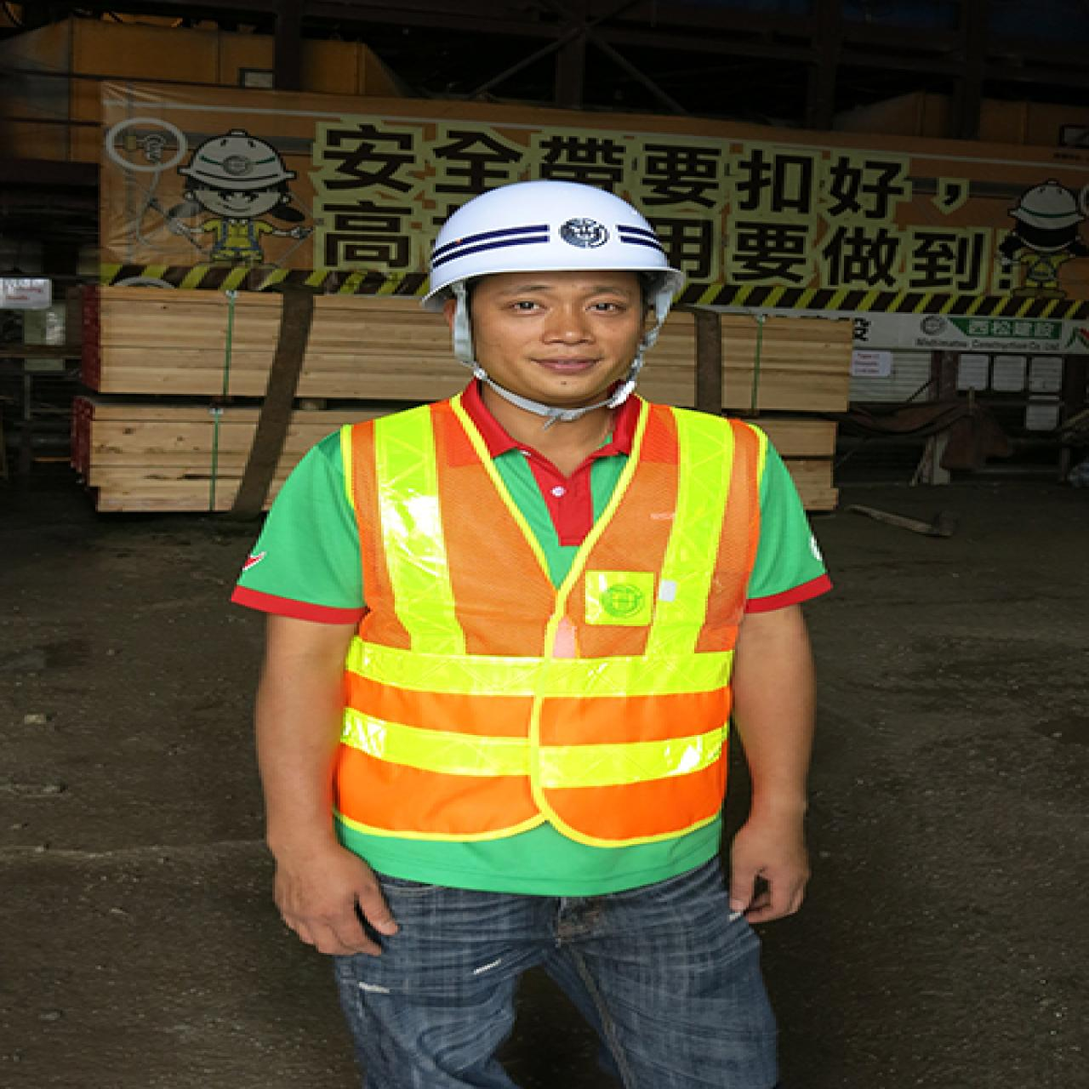Person: (215, 151, 901, 1089)
Safety_Vest: (275, 379, 774, 904)
